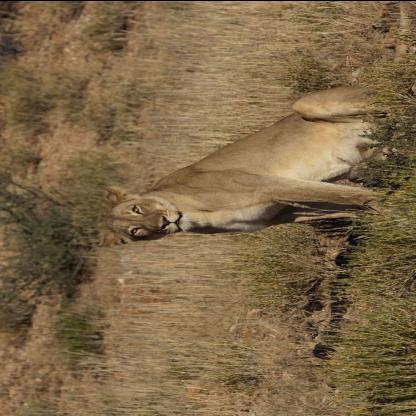lion: (100, 185, 196, 253)
